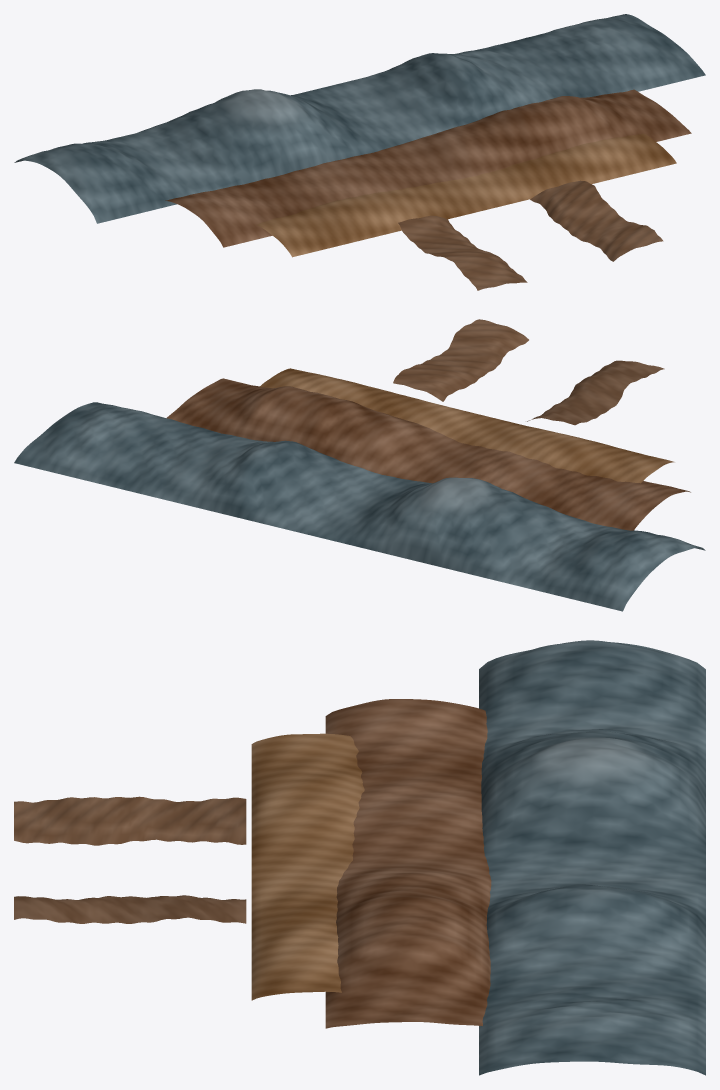
The model's file is andes_runtime.glb.
3 views of the same model, one above another, from view 1: azimuth 30°, elevation 25°; view 2: azimuth 150°, elevation 25°; view 3: azimuth 270°, elevation 25° (orthographic). The views are drawn at different scales.
Visible parts, largest first — view 1: High Cordillera, Ochre eroded ridge, Sunlit foothills, Valley shelf 1, Valley shelf -1; view 2: High Cordillera, Ochre eroded ridge, Sunlit foothills, Valley shelf 1, Valley shelf -1; view 3: High Cordillera, Ochre eroded ridge, Sunlit foothills, Valley shelf -1, Valley shelf 1.
Part boxes in pixels (x1,y1,x2,y2): High Cordillera: [14, 14, 705, 223]; Ochre eroded ridge: [165, 89, 691, 247]; Sunlit foothills: [256, 133, 676, 257]; Valley shelf 1: [530, 180, 663, 261]; Valley shelf -1: [398, 215, 527, 290]; High Cordillera: [14, 402, 705, 611]; Ochre eroded ridge: [166, 378, 690, 530]; Sunlit foothills: [259, 368, 674, 483]; Valley shelf 1: [393, 319, 528, 401]; Valley shelf -1: [527, 360, 664, 425]; High Cordillera: [479, 640, 705, 1075]; Ochre eroded ridge: [325, 699, 491, 1028]; Sunlit foothills: [251, 733, 364, 1000]; Valley shelf -1: [14, 796, 246, 845]; Valley shelf 1: [14, 895, 246, 923].
Size of the model in its own units: 182 by 12.91 by 131.
